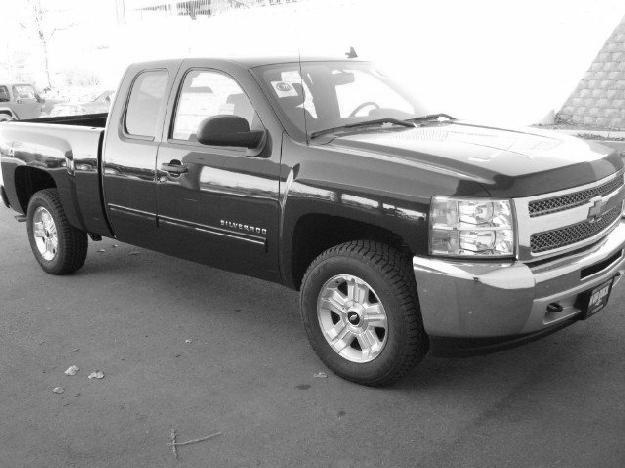car: (2, 57, 625, 391)
